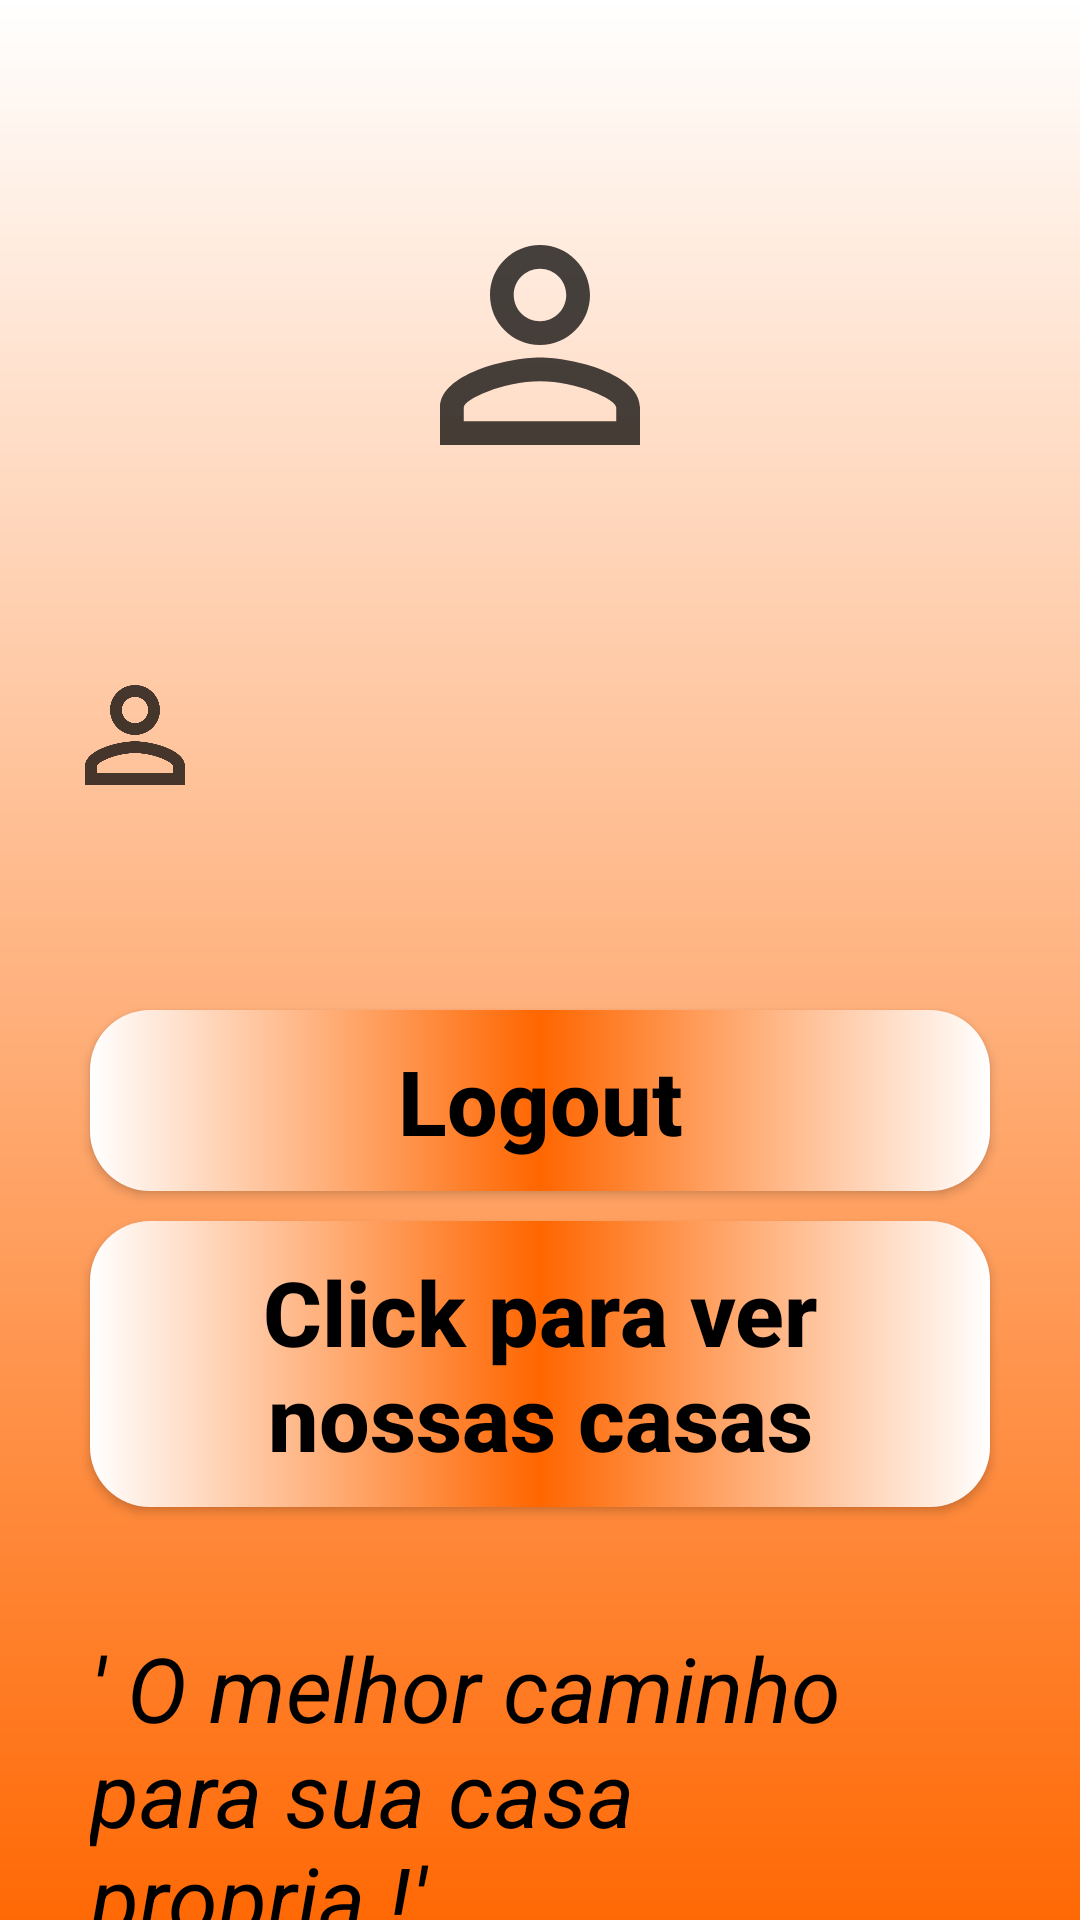

Icons on this 1080 x 1920 Android screen, each with the point to tap as point (x, y):
perfil: point (540, 345), point (135, 722)
